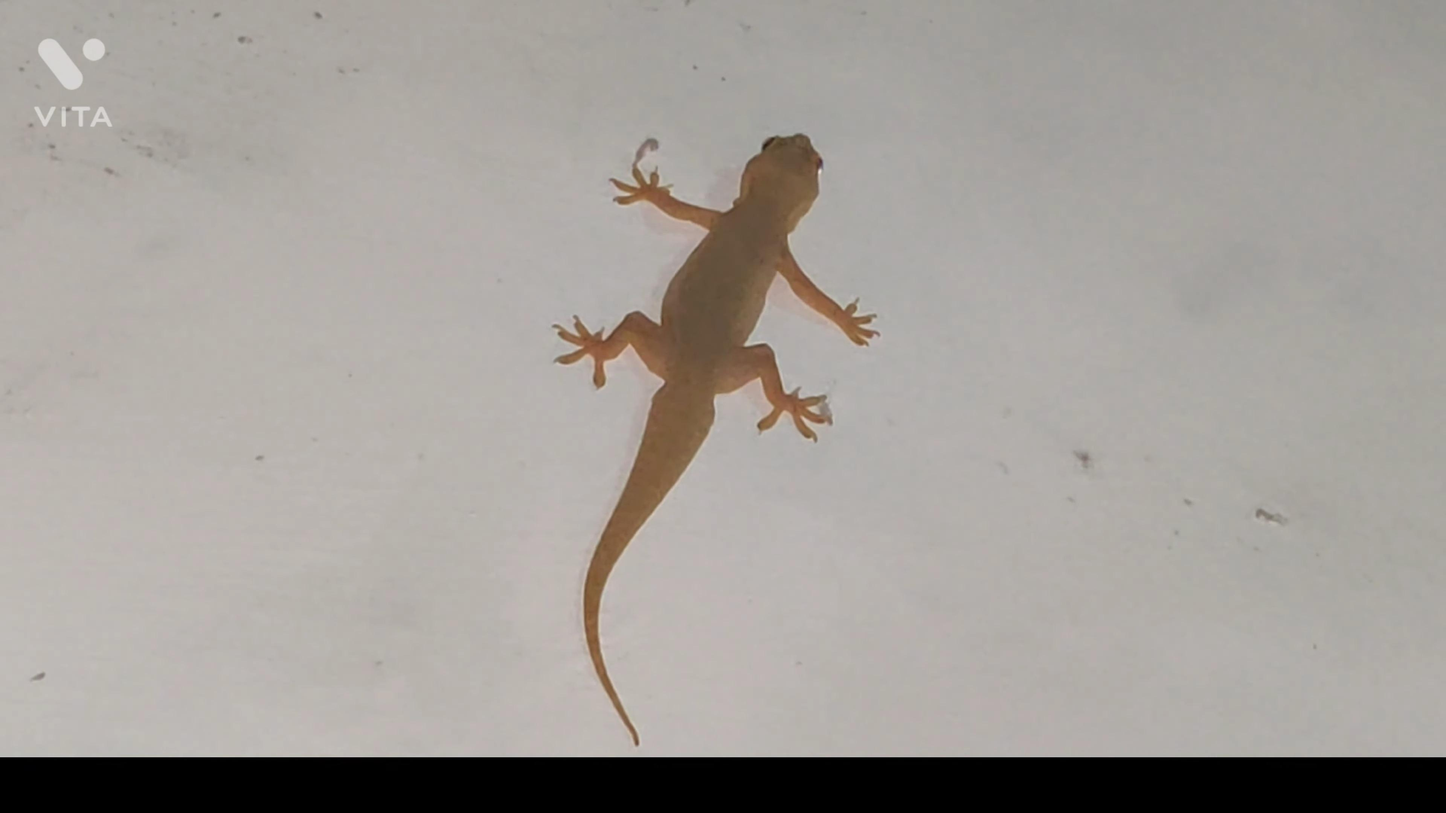lizard: (548, 130, 883, 749)
